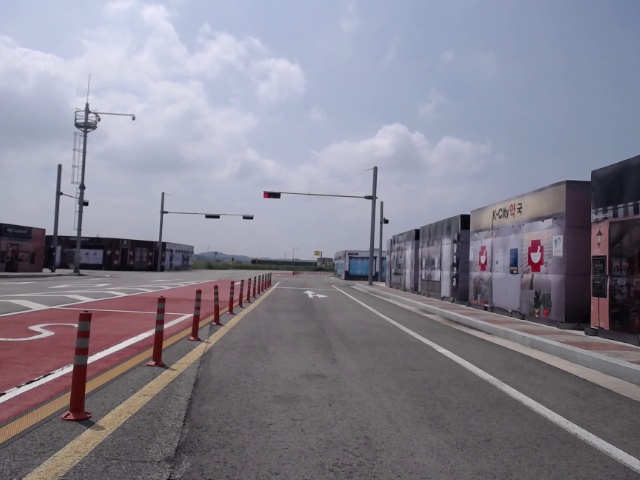red_3: (263, 192, 280, 199)
